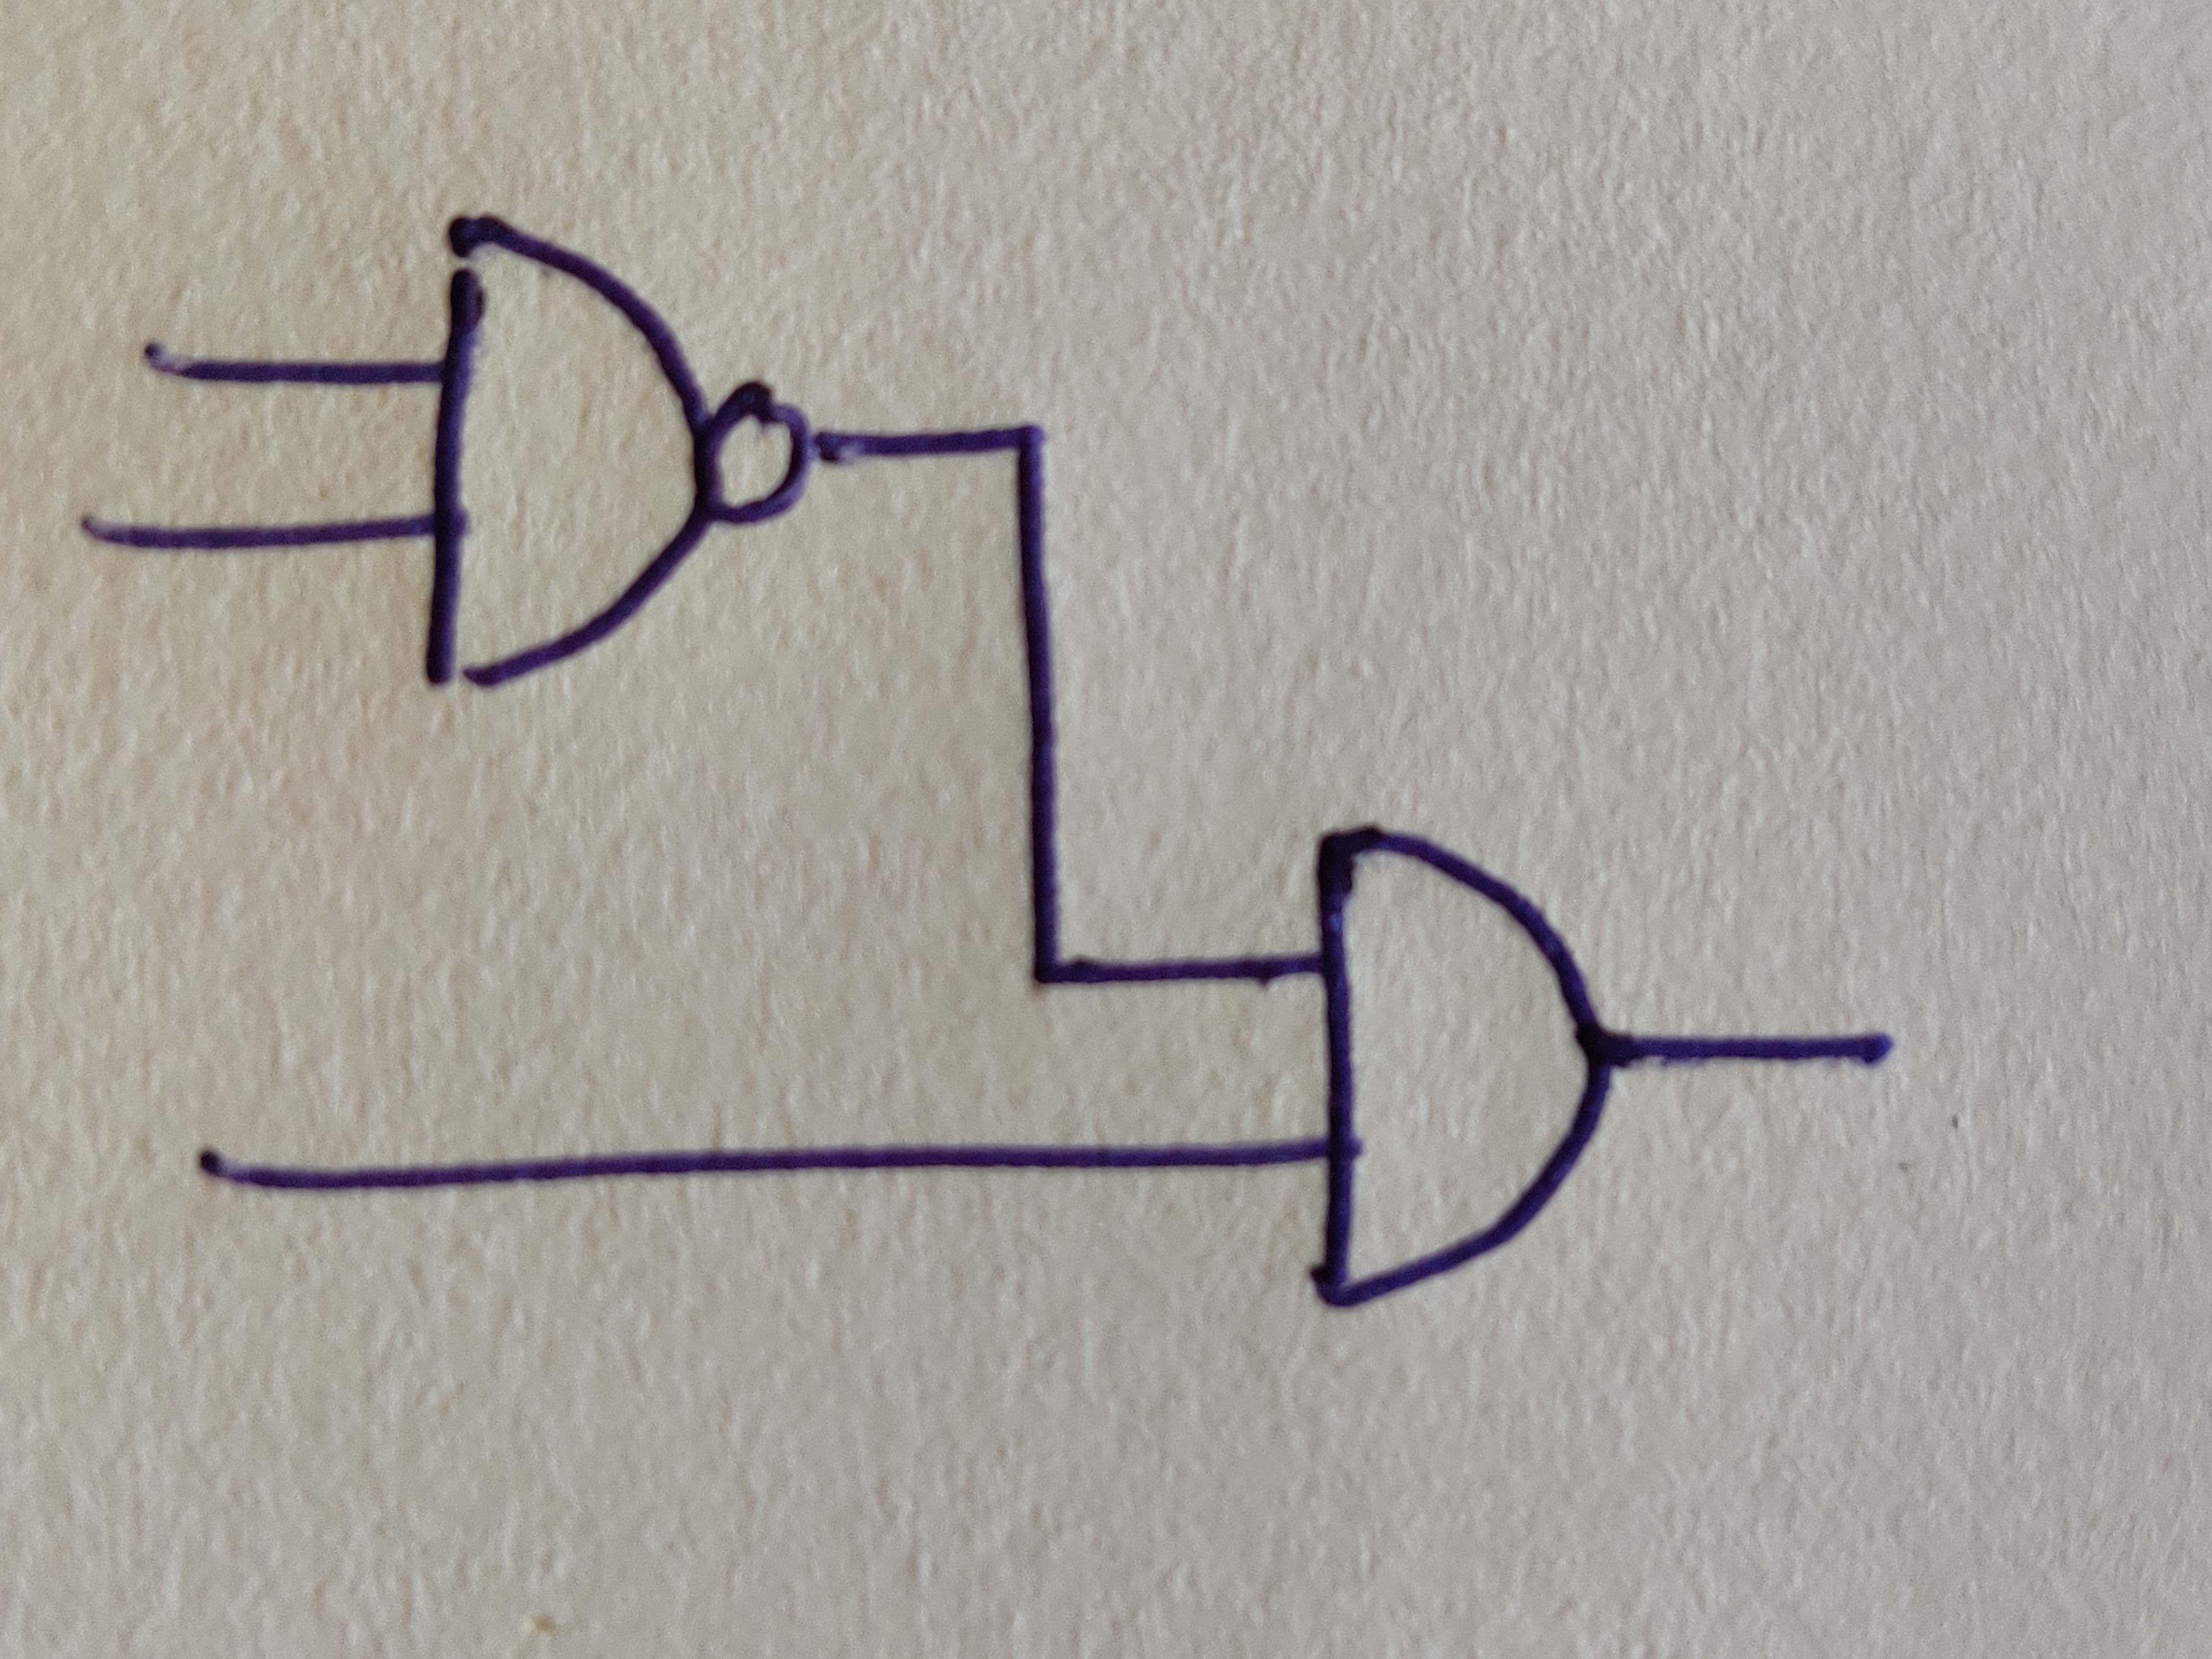and: (1318, 828, 1613, 1309), (425, 216, 719, 685)
not: (707, 380, 813, 525)
